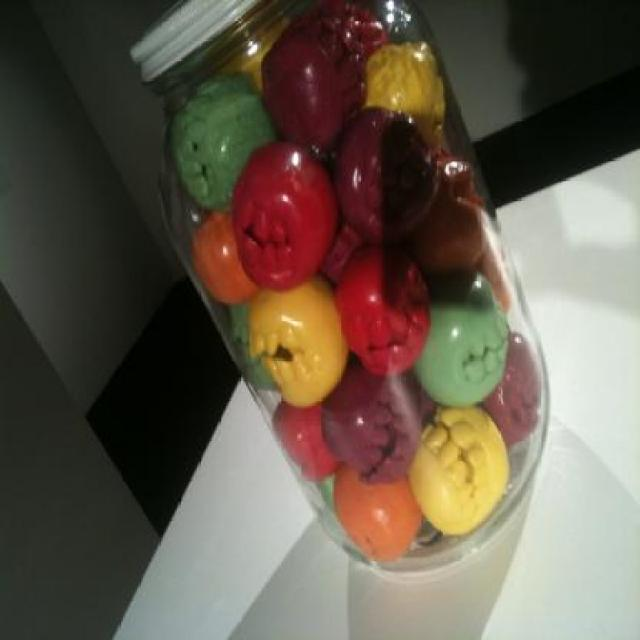Candy: (140, 0, 585, 605)
